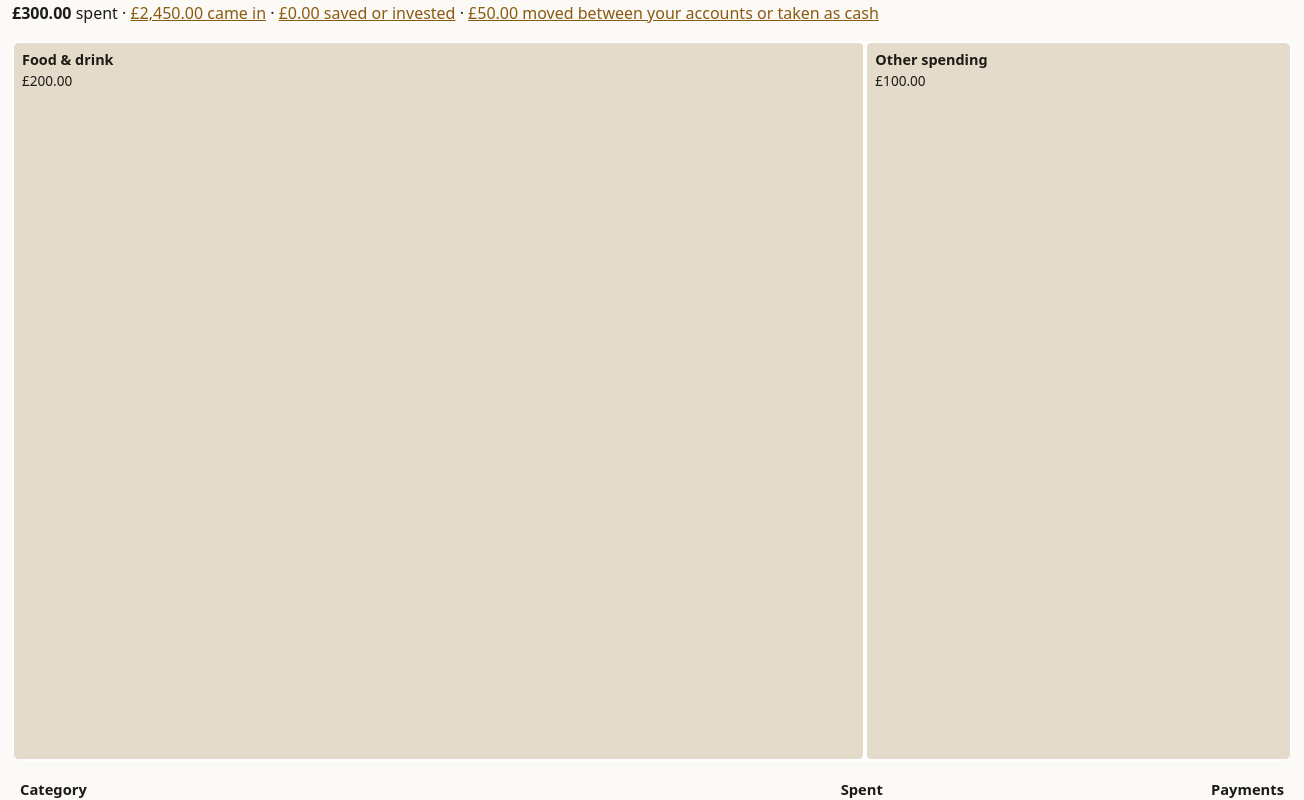
Test: after a failed save it shows the message, reloads and the select shows the saved category
(page scrolled)
Click the button with aria-label "Other spending, £100.00" at (1079, 401), box 865,41 -> 1292,761
(page scrolled)
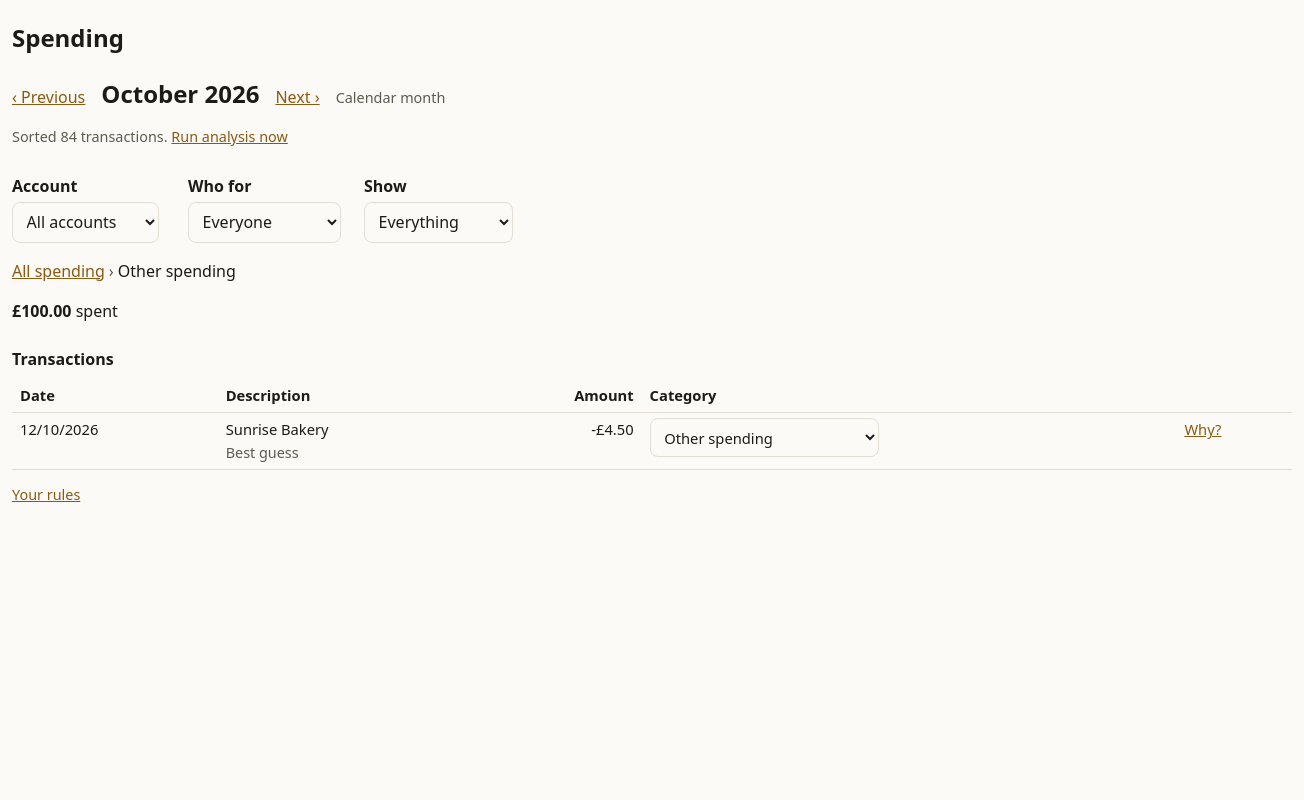
Result: the dropdown named "Category for Sunrise Bakery on 12/10/2026" is enabled
Select "Food & drink › Eating out" in the dropdown named "Category for Sunrise Bakery on 12/10/2026" at (764, 438), box 650,418 -> 879,457
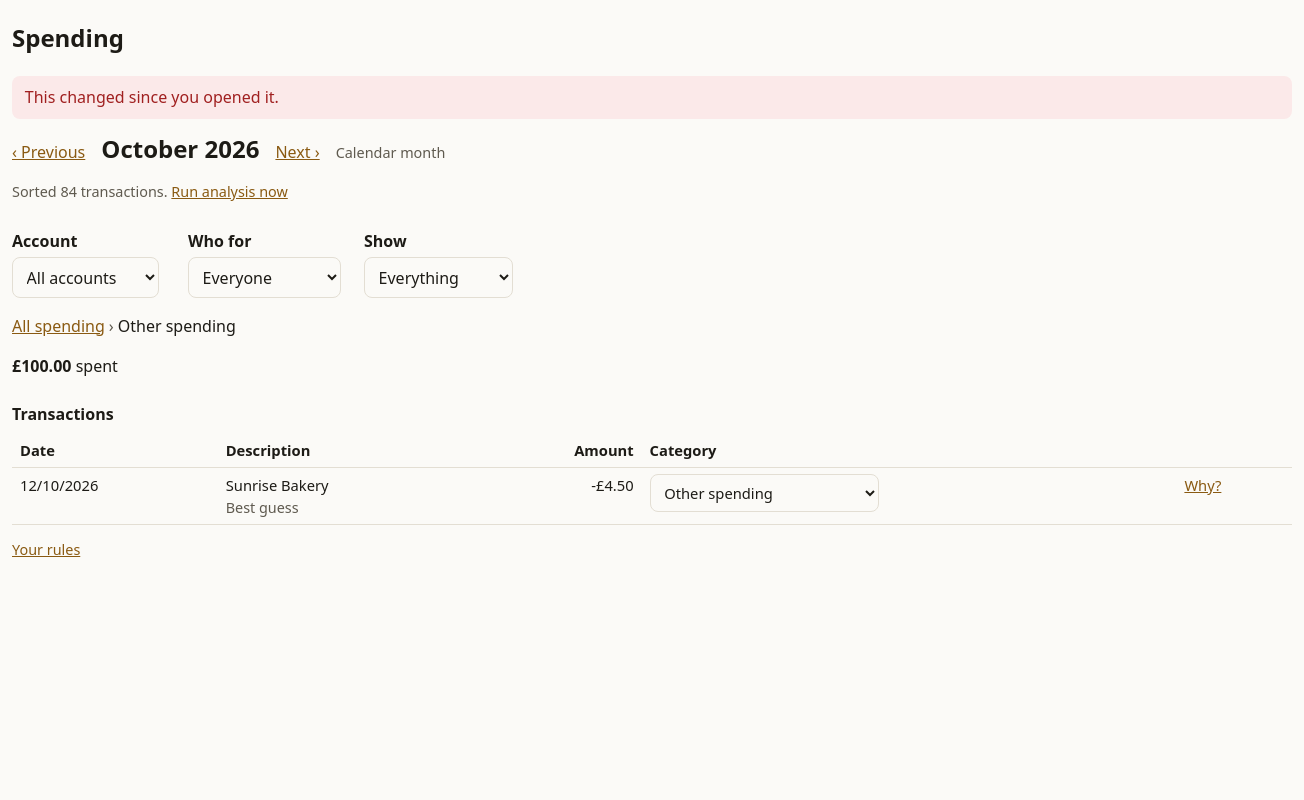
Result: the dropdown named "Category for Sunrise Bakery on 12/10/2026" is enabled at 650,474 -> 879,512
Result: the dropdown named "Category for Sunrise Bakery on 12/10/2026" shows "Other spending" at 650,474 -> 879,512
Result: the text "This changed since you opened it." is shown at 12,76 -> 1292,119
